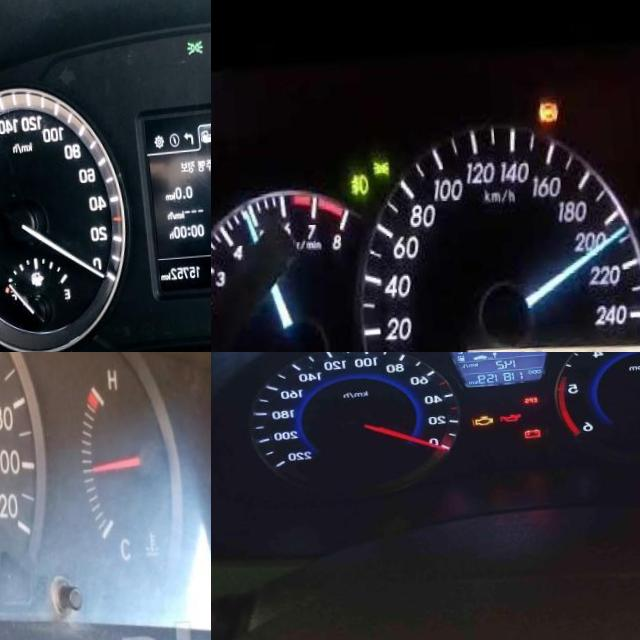SideLamp: (184, 43, 204, 61)
